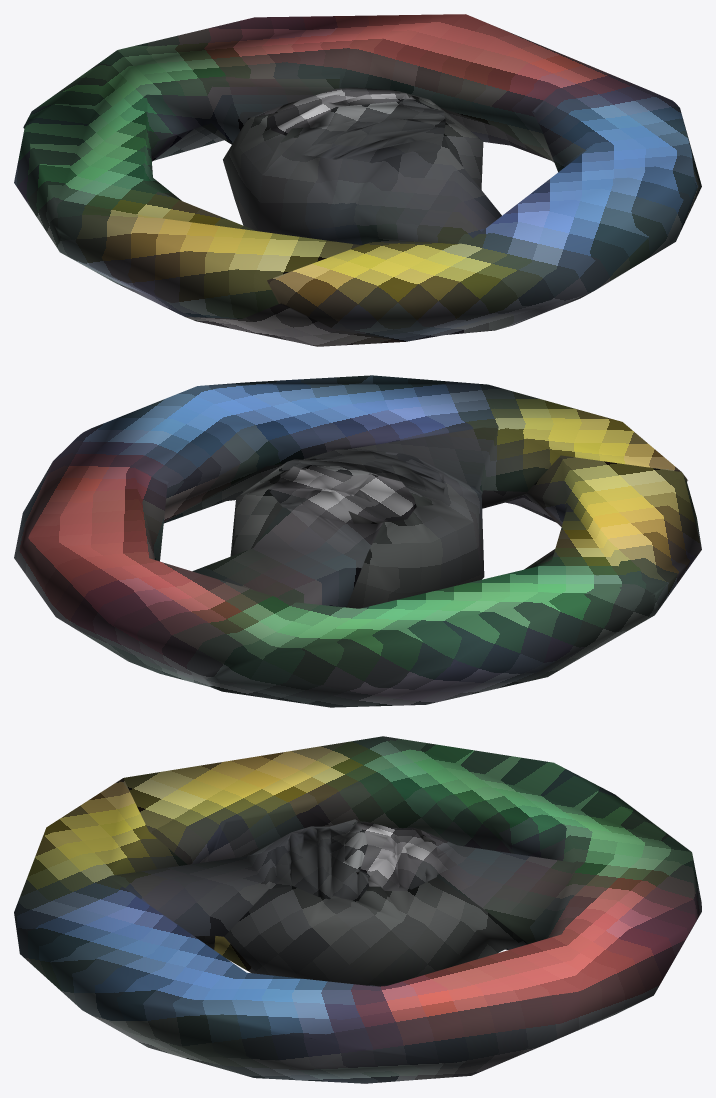
Rendered from Simon_Swipe_Game-low.glb.
3 views of the same model, one above another, from view 1: azimuth 30°, elevation 25°; view 2: azimuth 150°, elevation 25°; view 3: azimuth 270°, elevation 25° (orthographic).
Parts seen in each view (by area): view 1: Simon_Swipe_Game; view 2: Simon_Swipe_Game; view 3: Simon_Swipe_Game.
Part boxes in pixels (left/top/right/bottom): Simon_Swipe_Game: left=14, top=14, right=701, bottom=346; Simon_Swipe_Game: left=14, top=375, right=701, bottom=707; Simon_Swipe_Game: left=14, top=736, right=701, bottom=1083.
Size of the model in its own units: 0.2288 by 0.0463 by 0.2266.
Materials: 1 (1 with a texture image).
